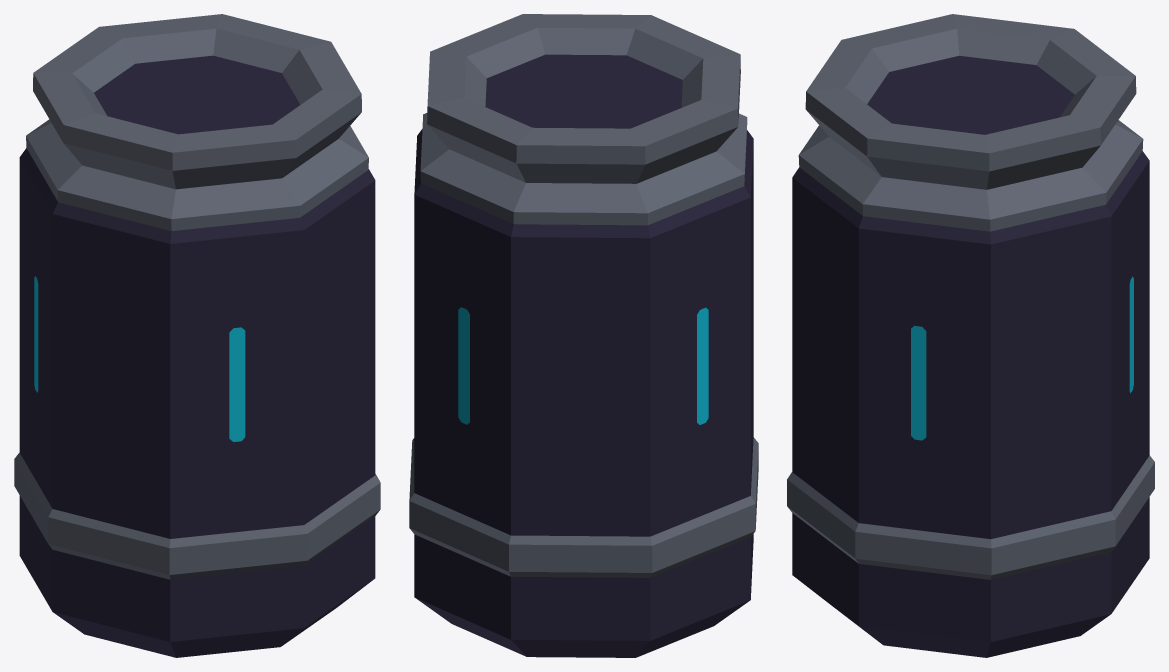
The model's file is barilleA.fbx.
3 renders of one model, left to right at view 1: azimuth 30°, elevation 25°; view 2: azimuth 150°, elevation 25°; view 3: azimuth 270°, elevation 25°, orthographic.
Visible parts, largest first — view 1: barilleA; view 2: barilleA; view 3: barilleA.
Part boxes in pixels (x1,y1,x2,y2): barilleA: (14,14,380,657); barilleA: (409,14,758,657); barilleA: (787,14,1154,657).
Size of the model in its own units: 54.47 by 84.5 by 54.47.
